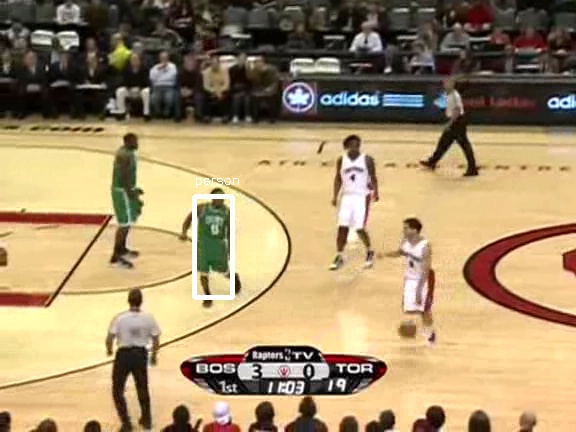person: (197, 203, 231, 284), (196, 203, 230, 284), (198, 203, 232, 284), (197, 202, 231, 283), (197, 204, 231, 285)
target_negative: (344, 199, 536, 411), (370, 192, 538, 294), (219, 322, 519, 374), (222, 44, 308, 197), (290, 330, 561, 370), (236, 409, 498, 410)
